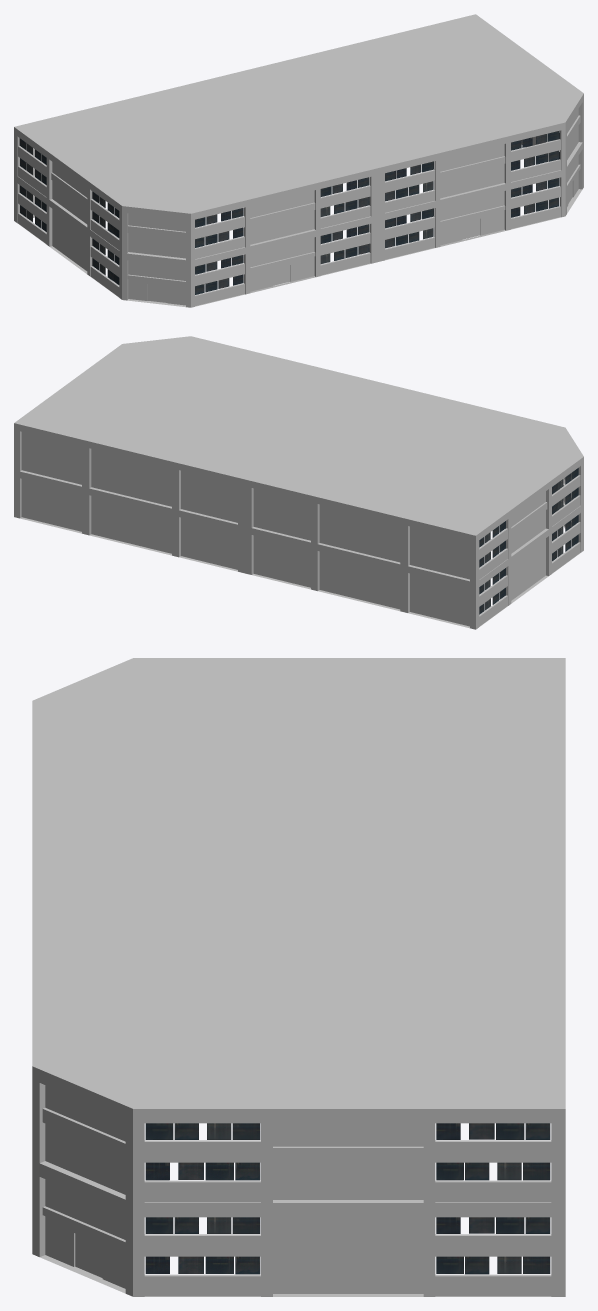
3 views of the same model, one above another, from view 1: azimuth 30°, elevation 25°; view 2: azimuth 150°, elevation 25°; view 3: azimuth 270°, elevation 25° (orthographic). The views are drawn at different scales.
Visible parts, largest first — view 1: DC-18; view 2: DC-18; view 3: DC-18.
Part boxes in pixels (x1,y1,x2,y2): DC-18: [14, 14, 583, 307]; DC-18: [14, 336, 583, 629]; DC-18: [32, 658, 565, 1296].
Size of what is drawn, in the model's own units: 72 by 14.09 by 36.
